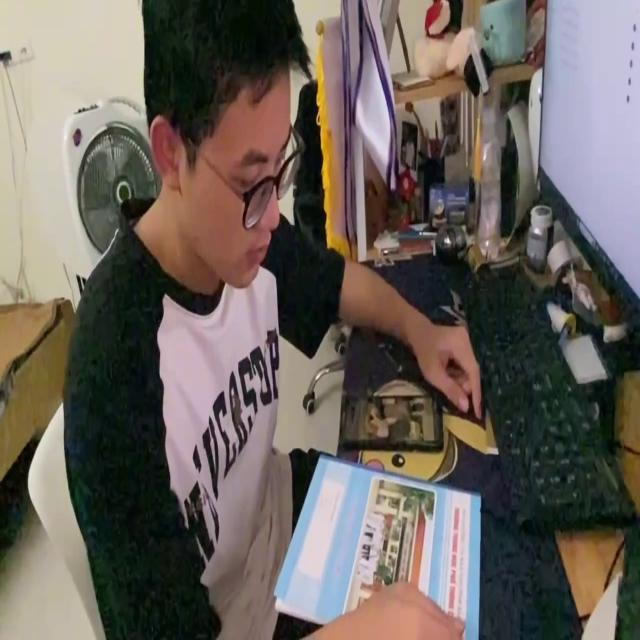book: (274, 449, 482, 638)
laptop: (537, 3, 640, 332)
phone: (338, 389, 443, 452)
student: (65, 0, 485, 640)
